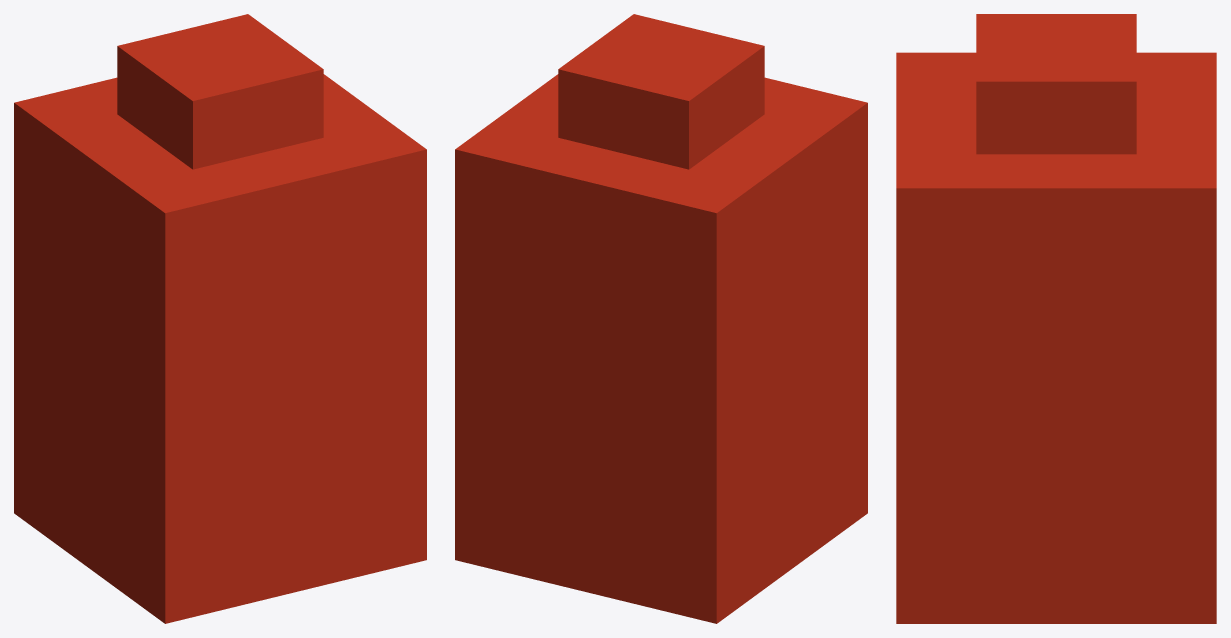
File: two-parts.fbx
3 renders of one model, left to right at view 1: azimuth 30°, elevation 25°; view 2: azimuth 150°, elevation 25°; view 3: azimuth 270°, elevation 25°, orthographic. The views are drawn at different scales.
Parts seen in each view (by area): view 1: Body, Cap; view 2: Body, Cap; view 3: Body, Cap.
Boxes of the visible parts, left/top/right/bottom form: Body: left=14, top=74, right=426, bottom=623; Cap: left=117, top=14, right=323, bottom=169; Body: left=455, top=74, right=867, bottom=623; Cap: left=558, top=14, right=764, bottom=169; Body: left=896, top=52, right=1216, bottom=623; Cap: left=976, top=14, right=1136, bottom=154.
Size of the model in its own units: 4 by 7 by 4.
